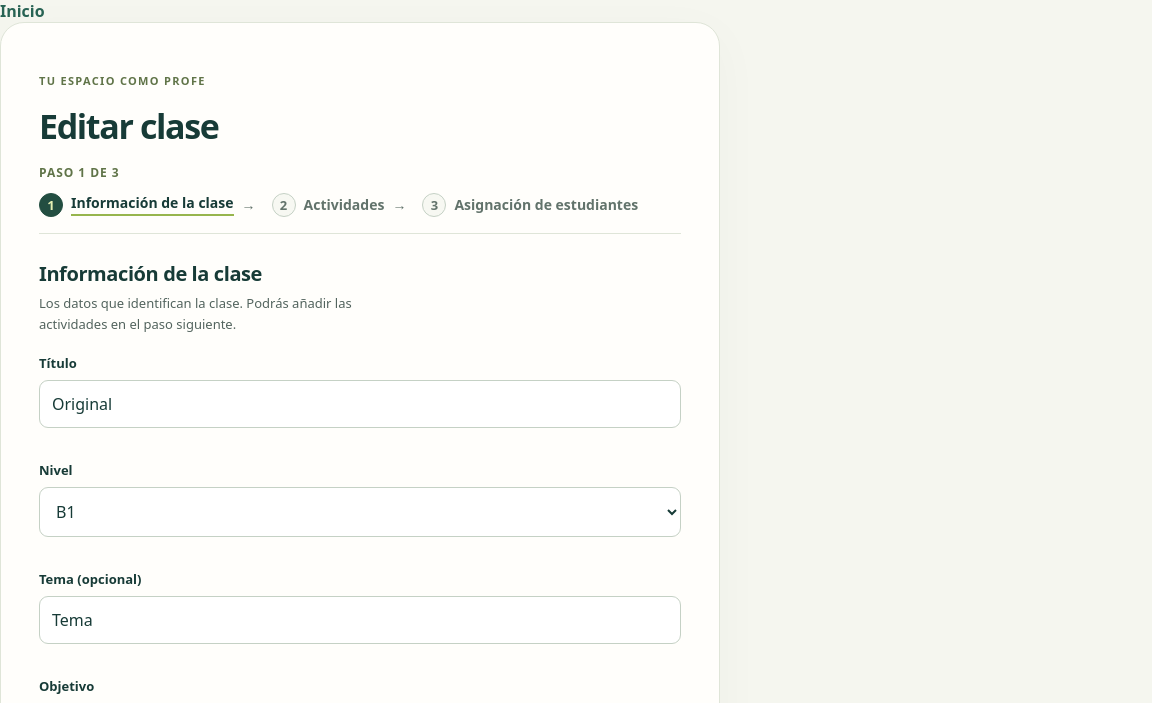
Test: warns on controlled navigation and beforeunload, cancellation preserves fields
Type " local" into the field labelled "Título" at (360, 404), box [39,380,681,428]
(page scrolled)
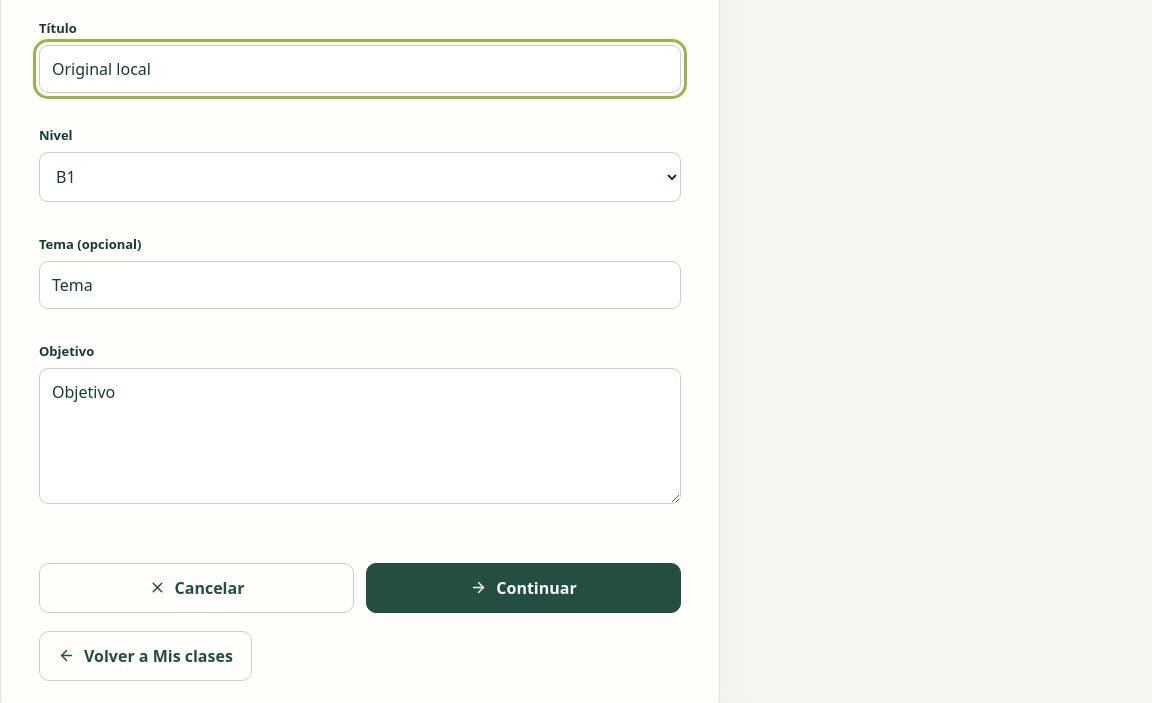
Click the button "Volver a Mis clases" at (145, 656), box [39,631,252,681]
(page scrolled)
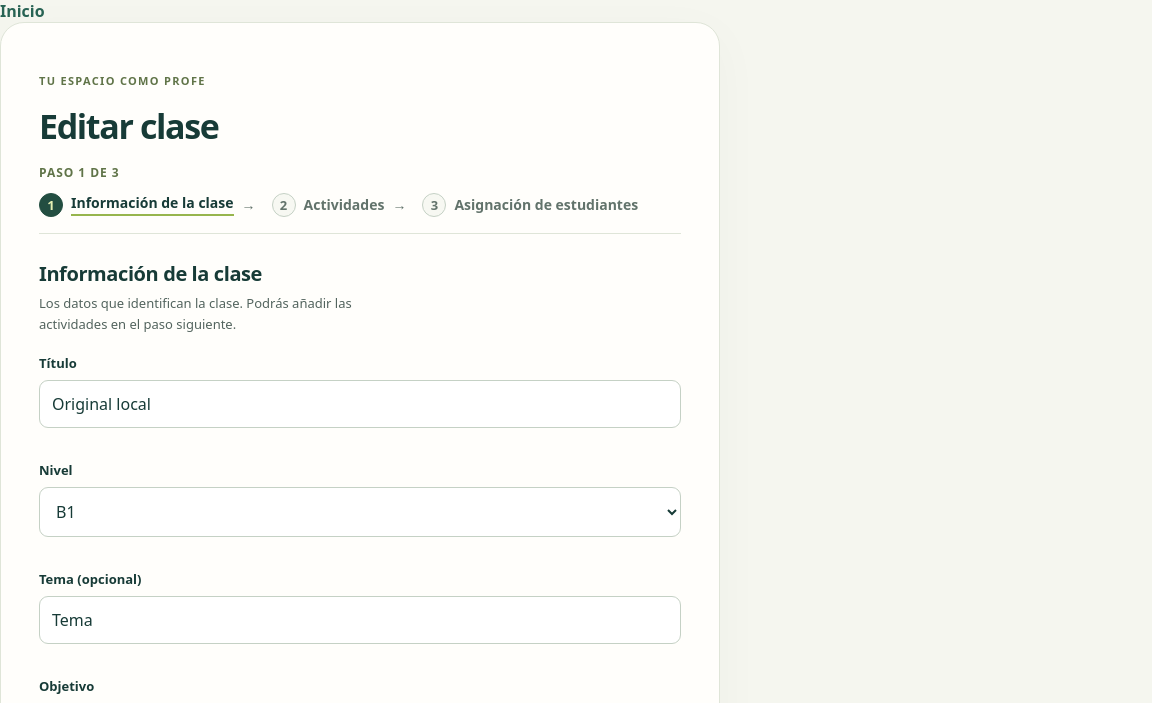
Click the link "Inicio" at (22, 11), box [0,0,45,22]
(page scrolled)
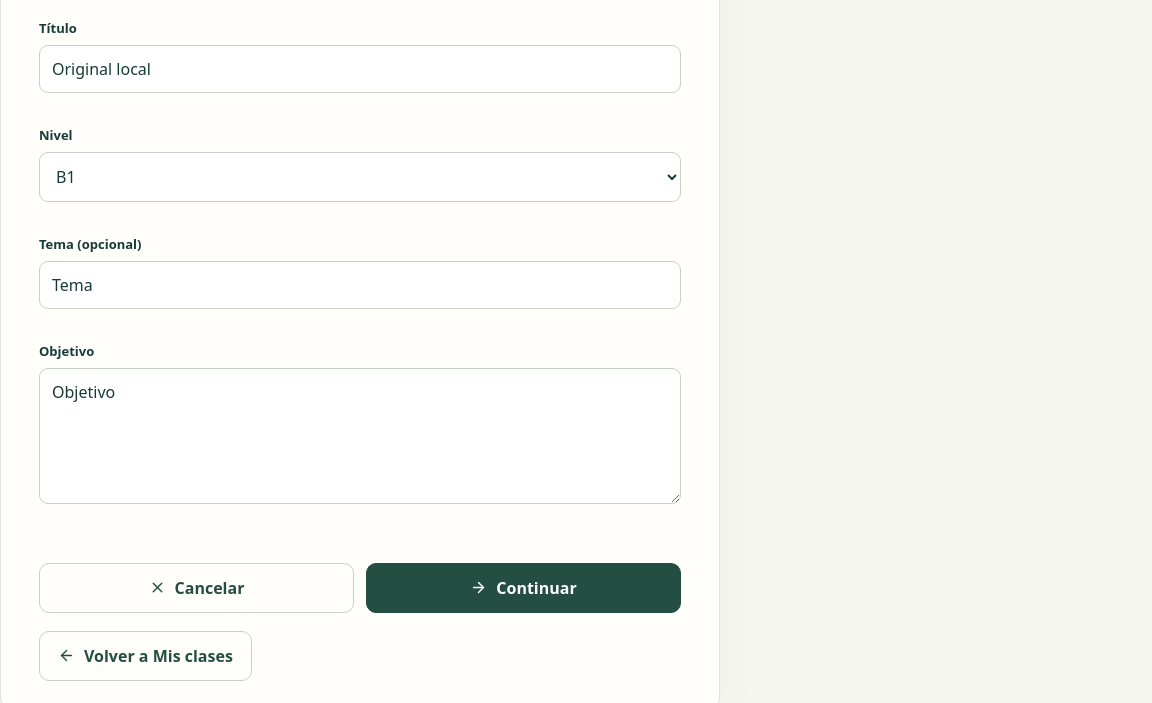
Result: the field labelled "Título" holds "Original local" at [39,45,681,93]
Click the button "Volver a Mis clases" at (145, 656), box [39,631,252,681]
(page scrolled)
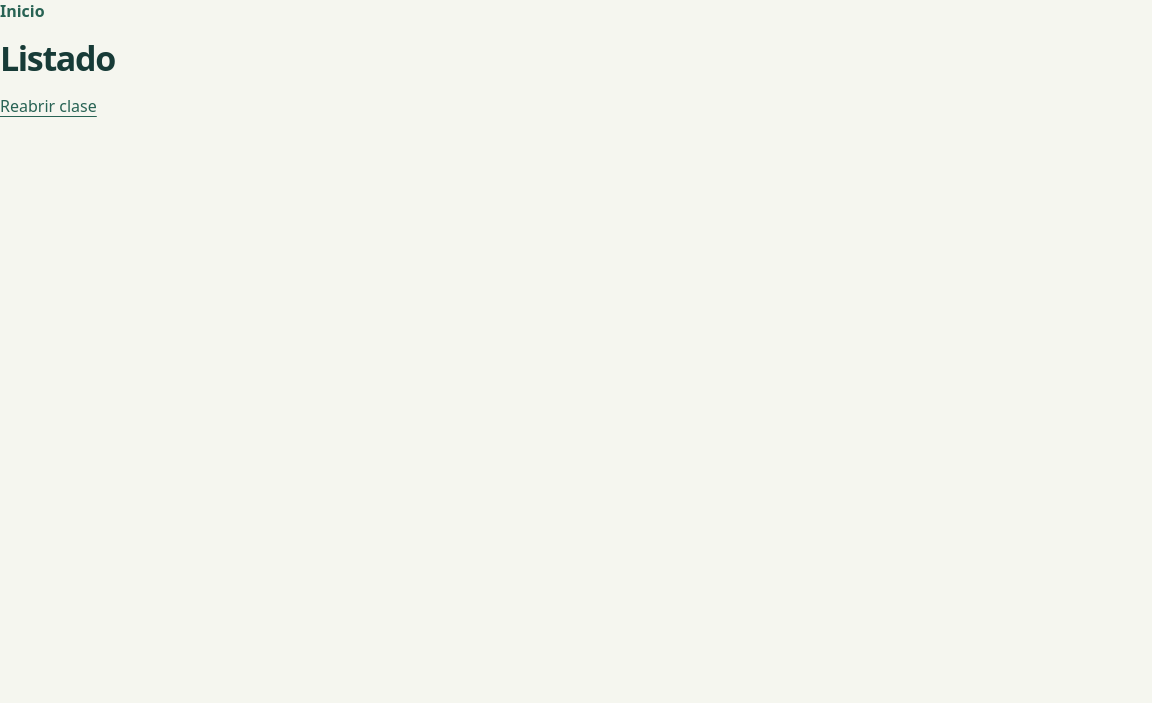
Result: the heading "Listado" is shown at [0,35,115,81]
